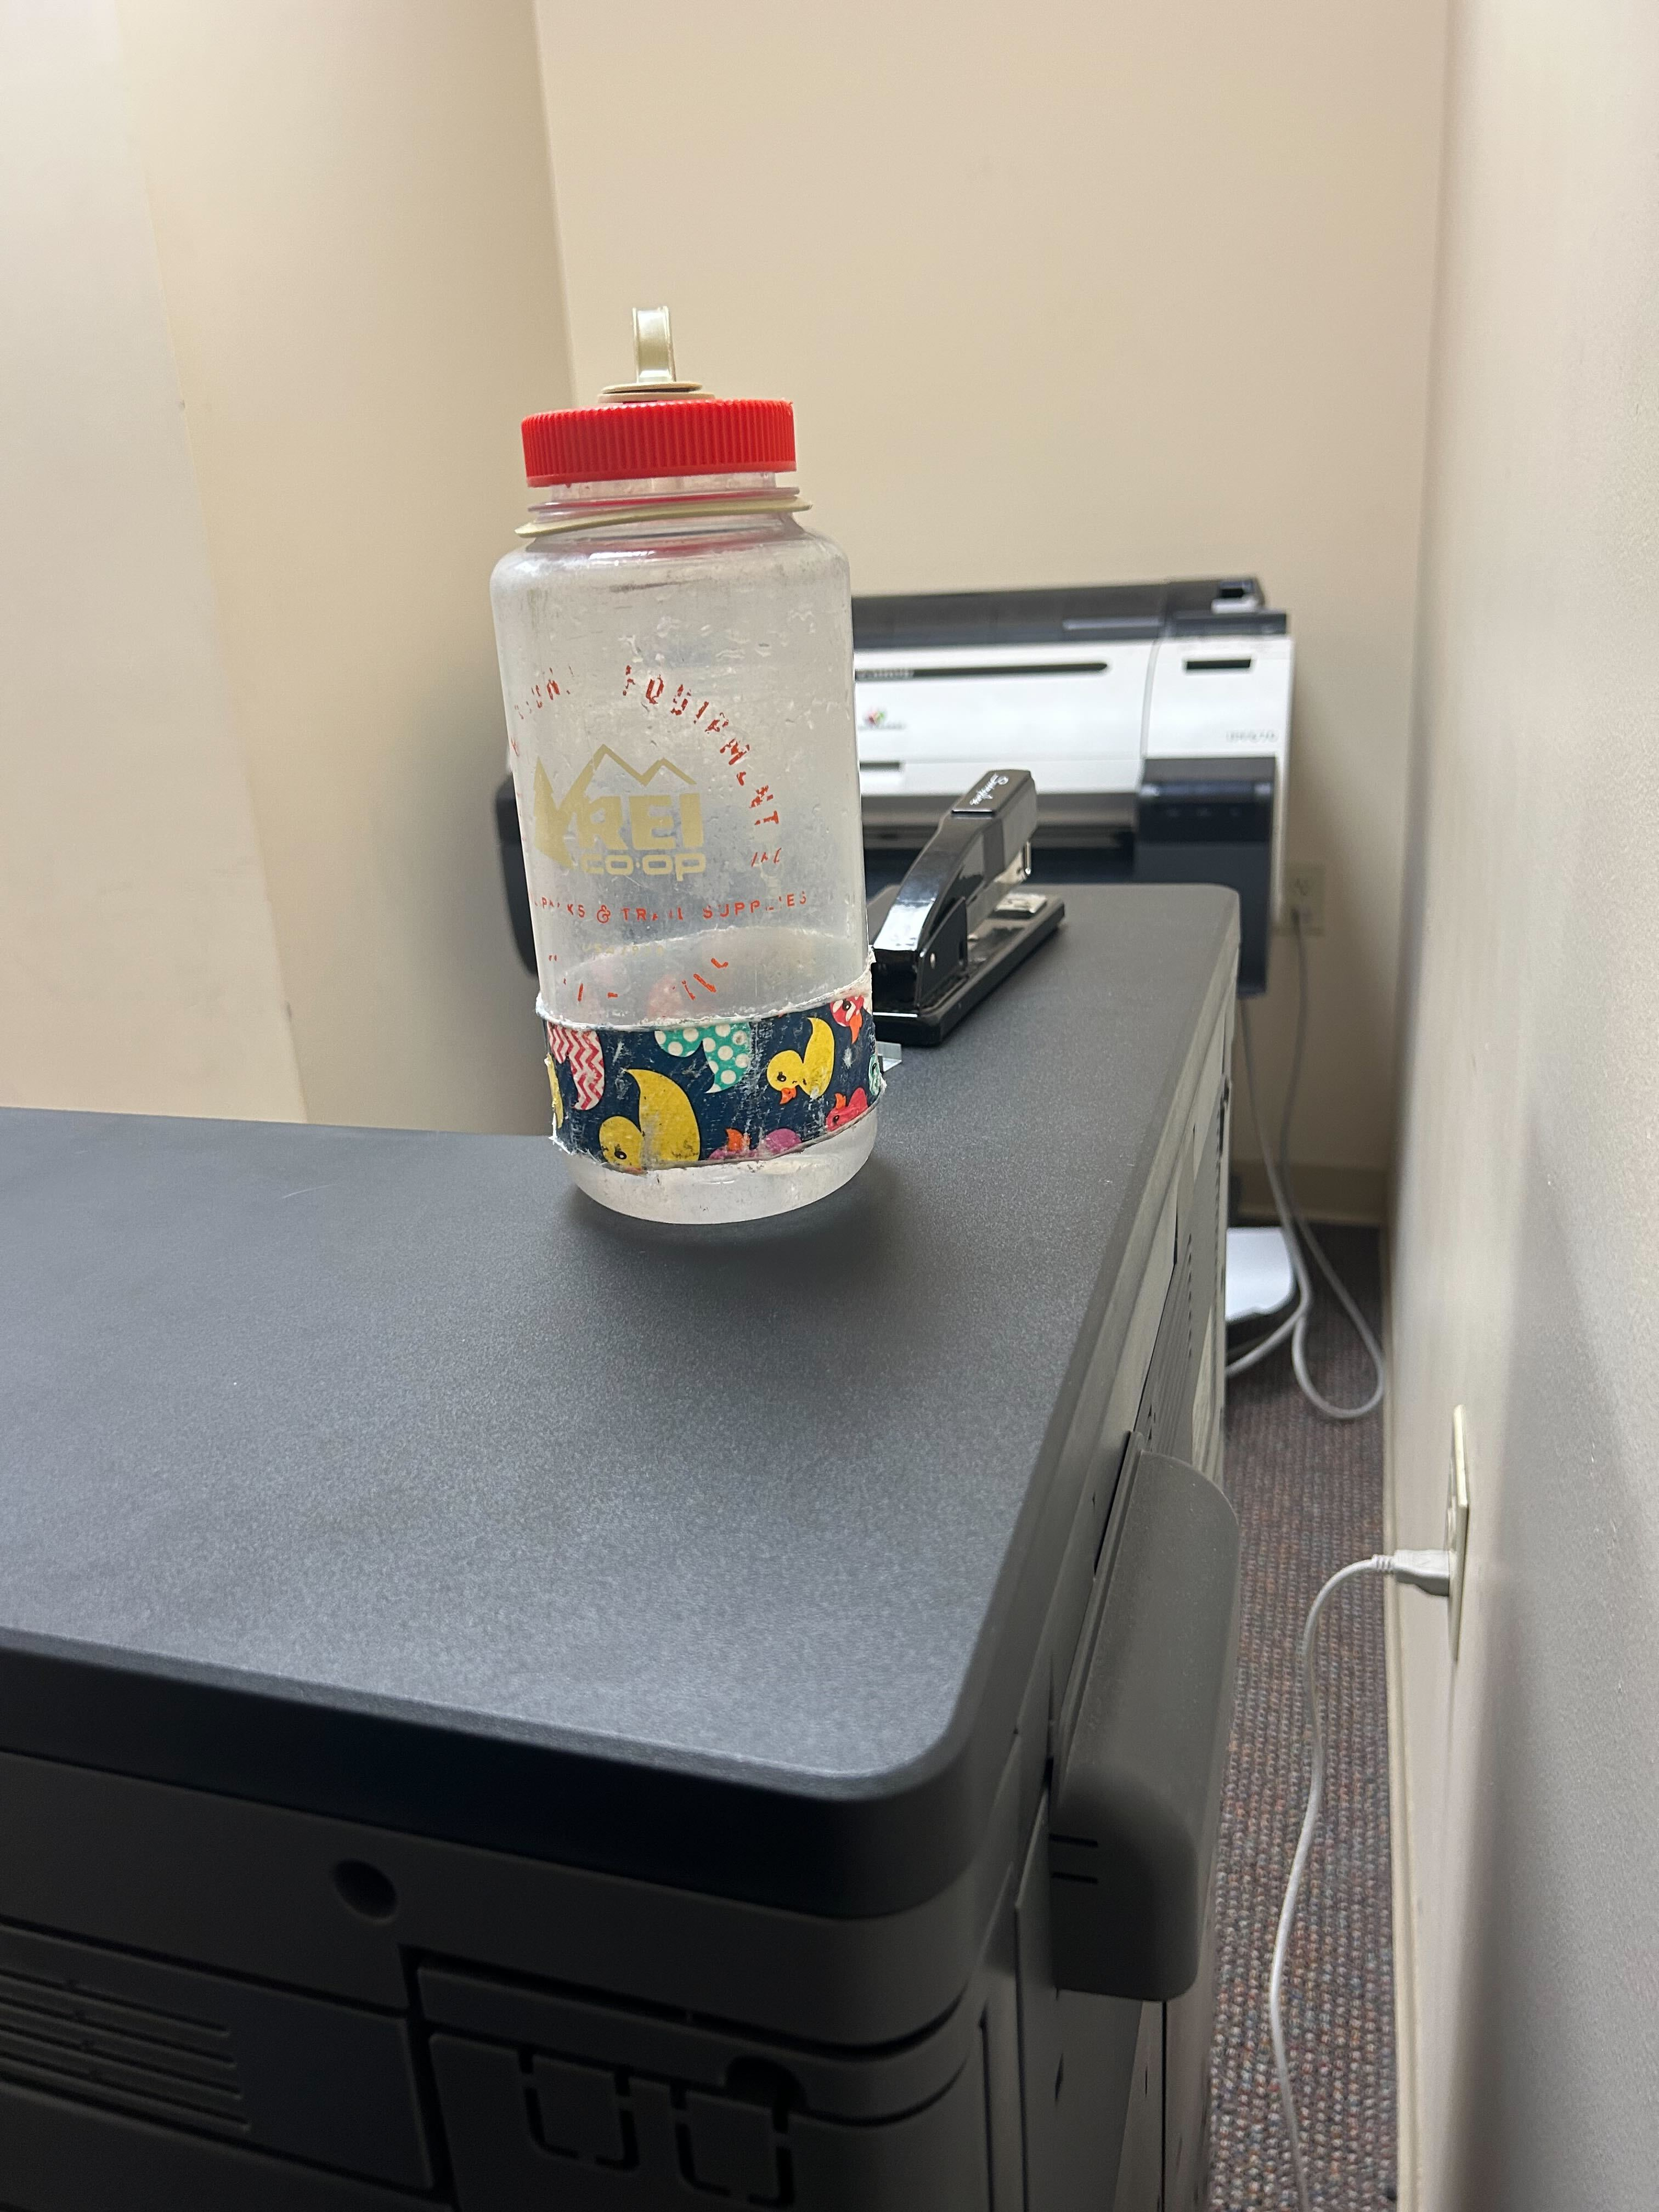bottle: (484, 291, 880, 1235)
